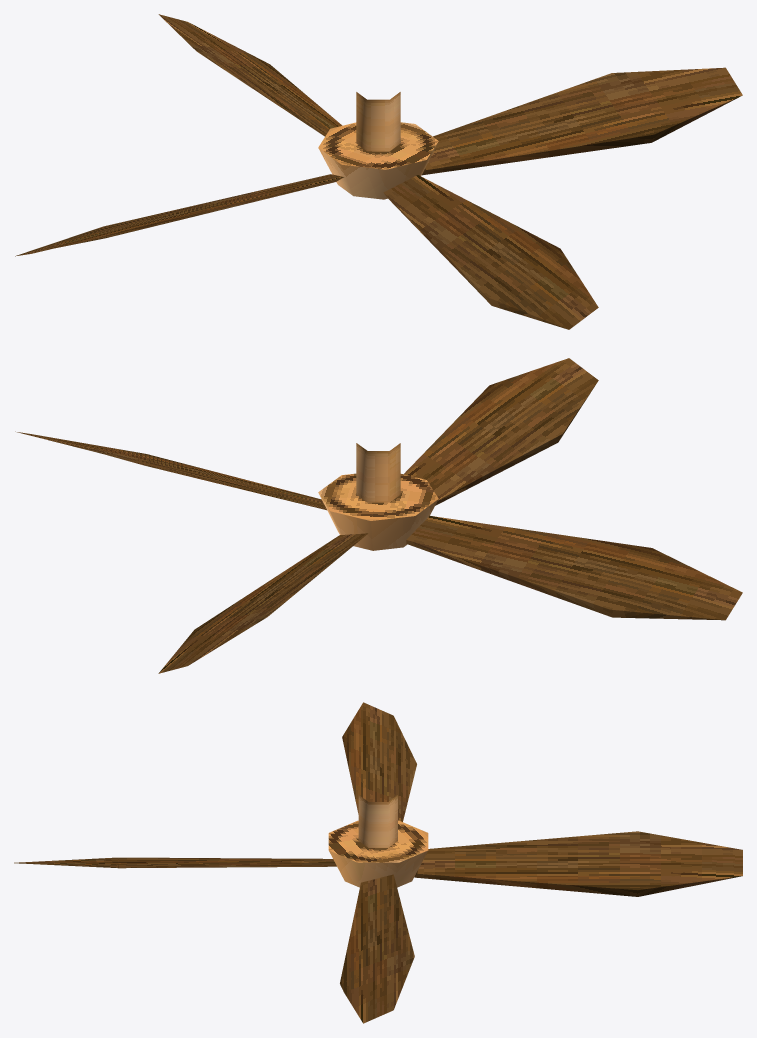
File: Ceiling_Fan1.glb
The picture shows the model from 3 angles, top to bottom: view 1: azimuth 30°, elevation 25°; view 2: azimuth 150°, elevation 25°; view 3: azimuth 270°, elevation 25°; orthographic projection. The views are drawn at different scales.
Parts seen in each view (by area): view 1: CEILING_FAN1; view 2: CEILING_FAN1; view 3: CEILING_FAN1.
Boxes of the visible parts, x1=… form: CEILING_FAN1: x1=15, y1=14, x2=742, y2=329; CEILING_FAN1: x1=15, y1=358, x2=742, y2=673; CEILING_FAN1: x1=14, y1=702, x2=742, y2=1023.
Size of the model in its own units: 1.58 by 0.21 by 1.58.
1 material, 1 textured.
